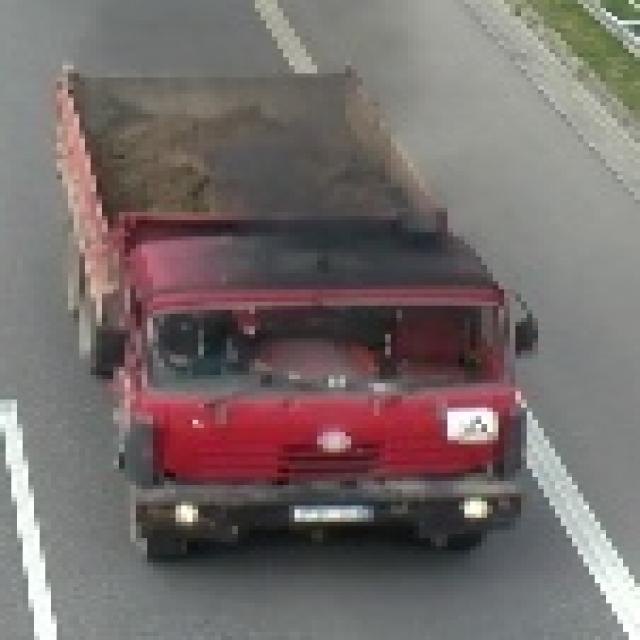truck: (45, 57, 532, 563)
